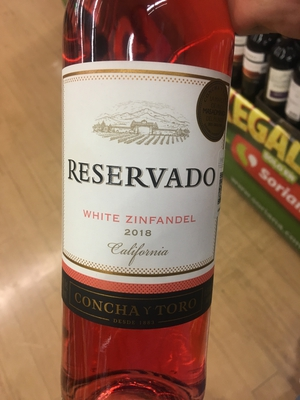reservado white zinfandel: (55, 8, 220, 400)
